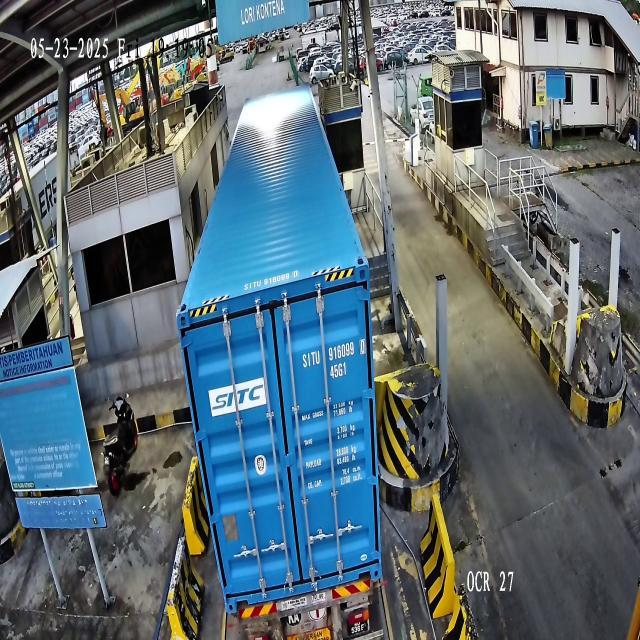ISO: (330, 362, 347, 380)
container_number: (302, 338, 366, 370)
